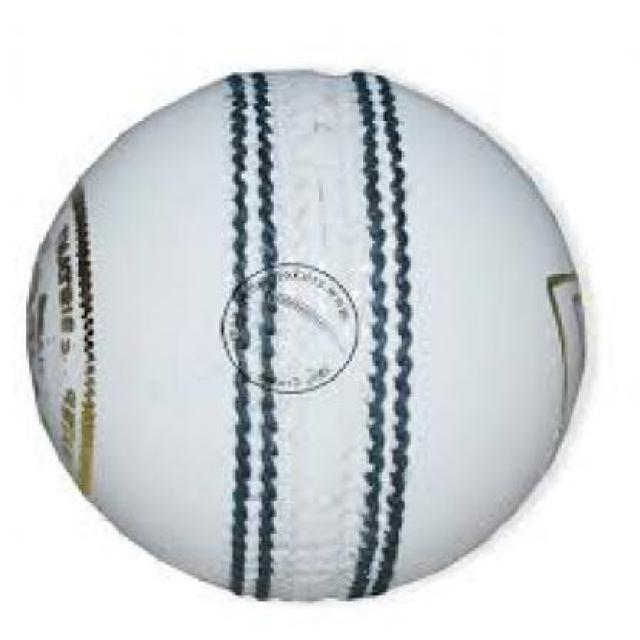ball: (14, 52, 615, 608)
